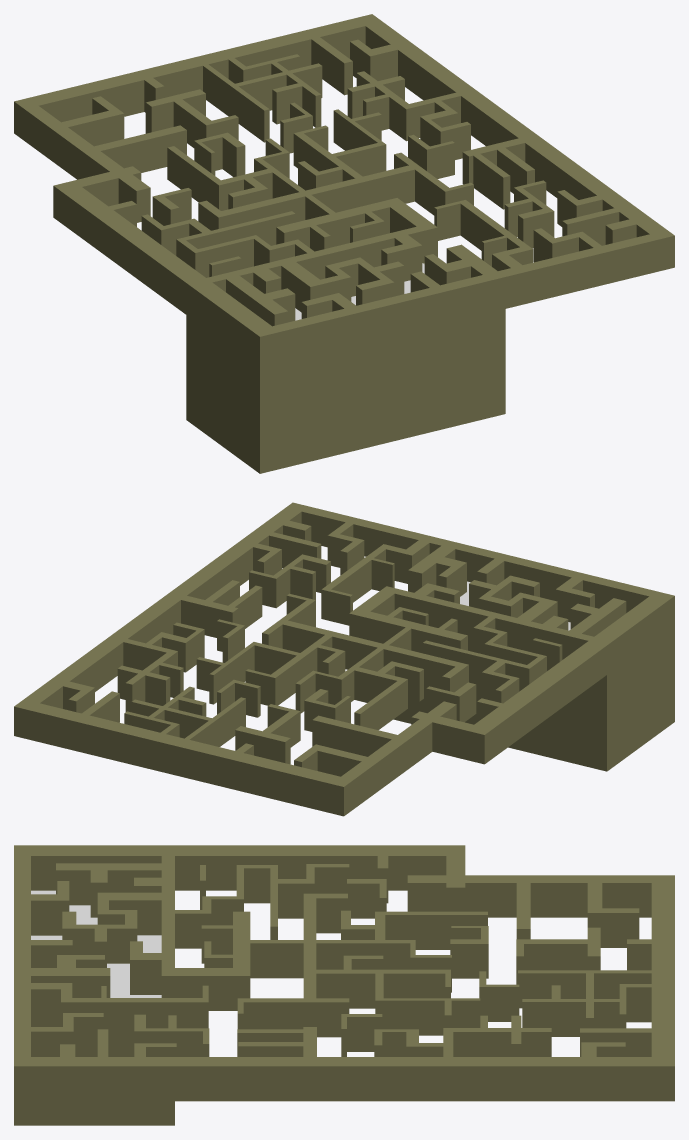
Rendered from labirinto.fbx.
The picture shows the model from 3 angles, top to bottom: view 1: azimuth 30°, elevation 25°; view 2: azimuth 150°, elevation 25°; view 3: azimuth 270°, elevation 25°; orthographic projection. The views are drawn at different scales.
Visible parts, largest first — view 1: Cube; view 2: Cube; view 3: Cube.
Boxes of the visible parts, box(x1,y1,x2,y2) form: Cube: box(14, 14, 674, 473); Cube: box(14, 502, 674, 816); Cube: box(14, 845, 674, 1125).
Bounding box in the file's own units: 208 × 65.72 × 263.
